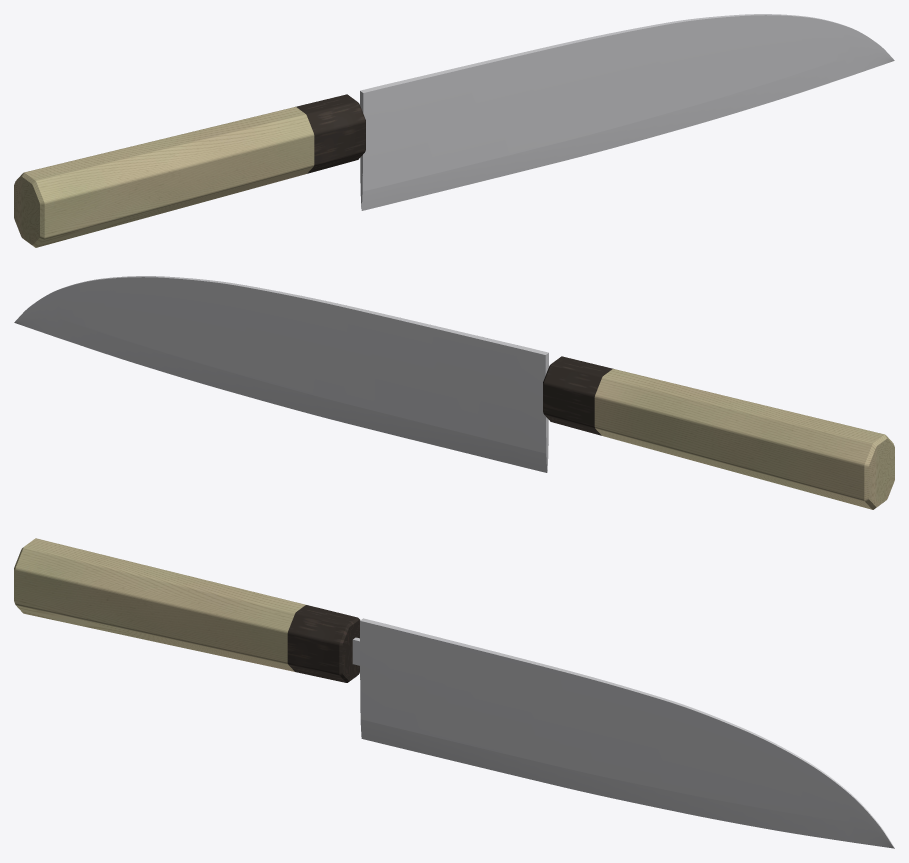
File: gyuto-side.glb
3 views of the same model, one above another, from view 1: azimuth 30°, elevation 25°; view 2: azimuth 150°, elevation 25°; view 3: azimuth 330°, elevation 25° (orthographic).
Visible parts, largest first — view 1: steel, handle; view 2: steel, handle; view 3: steel, handle.
Part boxes in pixels (bbox=[...]): steel: bbox=[360, 14, 894, 210]; handle: bbox=[14, 94, 365, 247]; steel: bbox=[14, 276, 548, 472]; handle: bbox=[543, 356, 894, 509]; steel: bbox=[352, 618, 894, 848]; handle: bbox=[14, 538, 360, 682].
Size of the model in its own units: 0.358 by 0.047 by 0.021.
4 materials, 2 textured.
